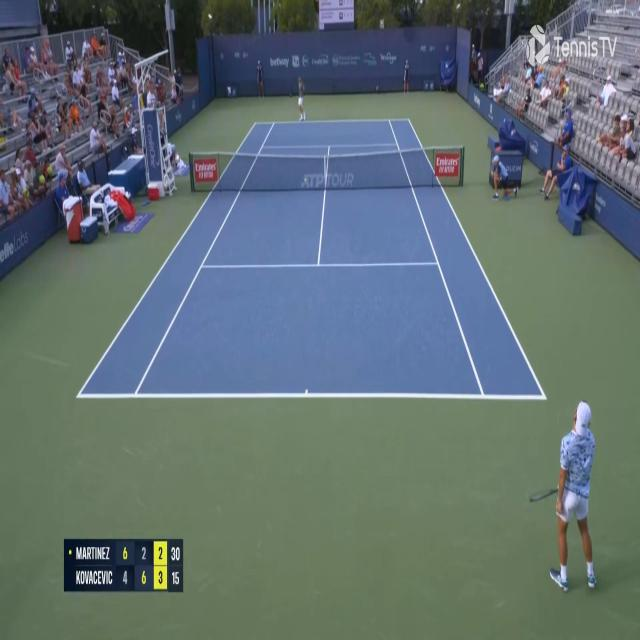tennis-player: (527, 394, 602, 595), (296, 74, 307, 122)
